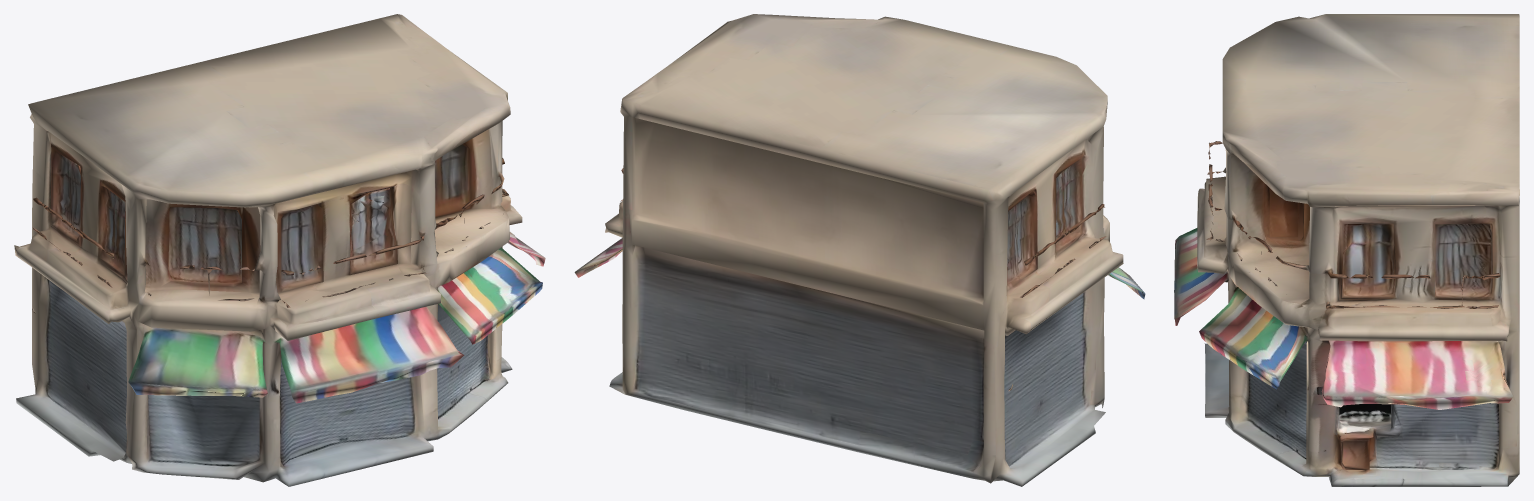
The model's file is h_shops.glb.
The picture shows the model from 3 angles, left to right: view 1: azimuth 30°, elevation 25°; view 2: azimuth 150°, elevation 25°; view 3: azimuth 270°, elevation 25°; orthographic projection. The views are drawn at different scales.
Visible parts, largest first — view 1: model; view 2: model; view 3: model.
Part boxes in pixels (bbox=[...]): model: bbox=[14, 14, 545, 486]; model: bbox=[574, 14, 1145, 486]; model: bbox=[1174, 14, 1519, 486].
Size of the model in its own units: 1.89 by 1.19 by 1.3.
1 material, 1 textured.
